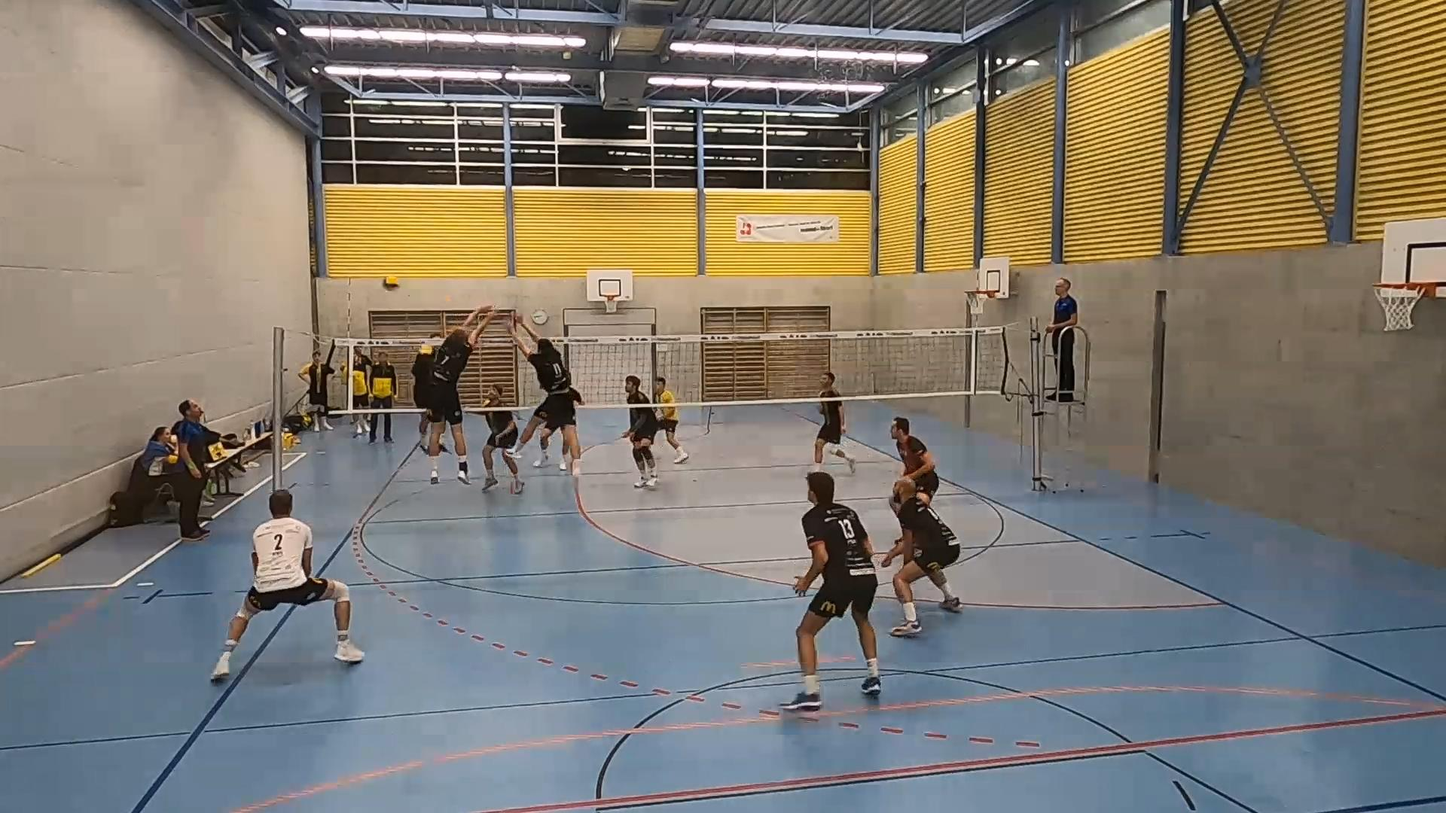Attack: (405, 315, 440, 446)
Block: (414, 304, 495, 487), (498, 311, 586, 479)
Player: (212, 489, 363, 680), (782, 472, 881, 711), (880, 479, 961, 636), (890, 416, 939, 504), (814, 372, 856, 473), (622, 376, 659, 488), (654, 377, 688, 464), (483, 411, 517, 490), (533, 406, 560, 467)
ball: (380, 274, 400, 292)
